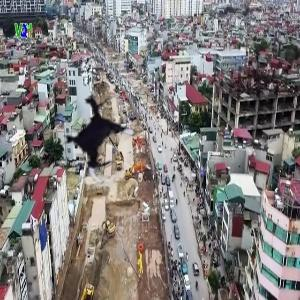drone: (53, 89, 152, 188)
